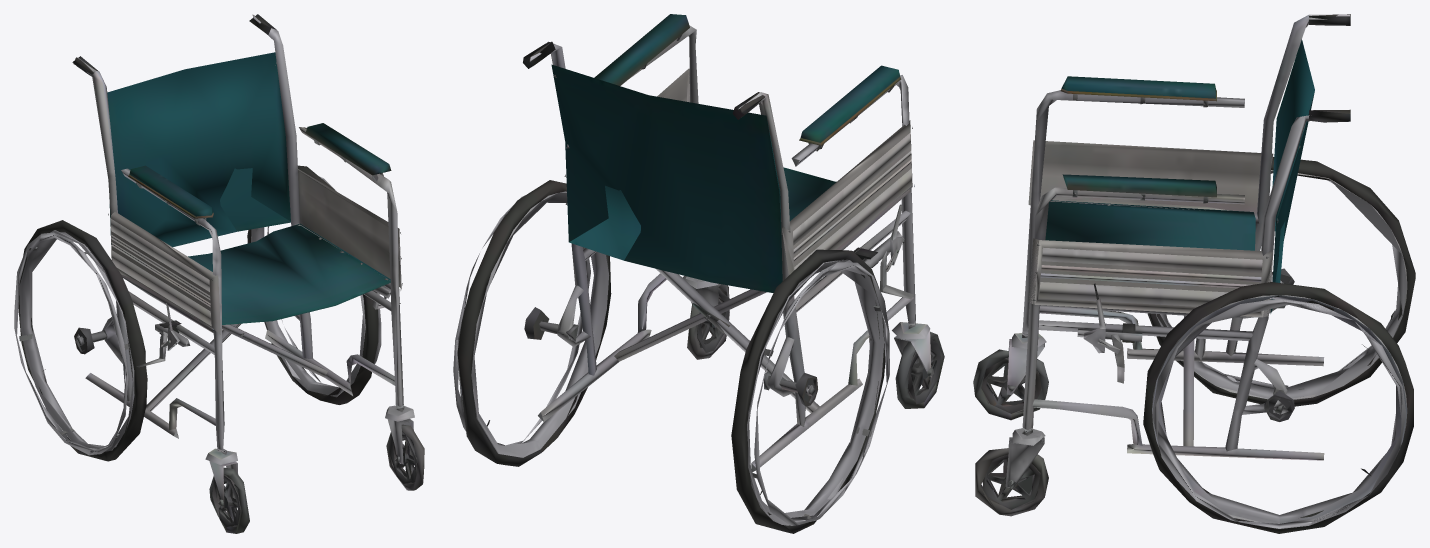
File: cc0_wheelchair.glb
3 renders of one model, left to right at view 1: azimuth 30°, elevation 25°; view 2: azimuth 150°, elevation 25°; view 3: azimuth 270°, elevation 25°, orthographic. The views are drawn at different scales.
Parts seen in each view (by area): view 1: wheelchair_01; view 2: wheelchair_01; view 3: wheelchair_01.
Part boxes in pixels (left/top/right/bottom): wheelchair_01: left=14, top=14, right=424, bottom=533; wheelchair_01: left=453, top=14, right=944, bottom=533; wheelchair_01: left=973, top=14, right=1415, bottom=533.
Size of the model in its own units: 0.8241 by 1.1 by 1.08.
Materials: 1 (1 with a texture image).
